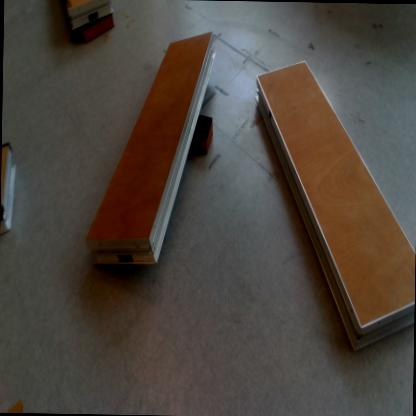Stairs: (256, 60, 416, 350), (86, 33, 217, 265), (64, 1, 113, 34), (1, 143, 17, 239)
